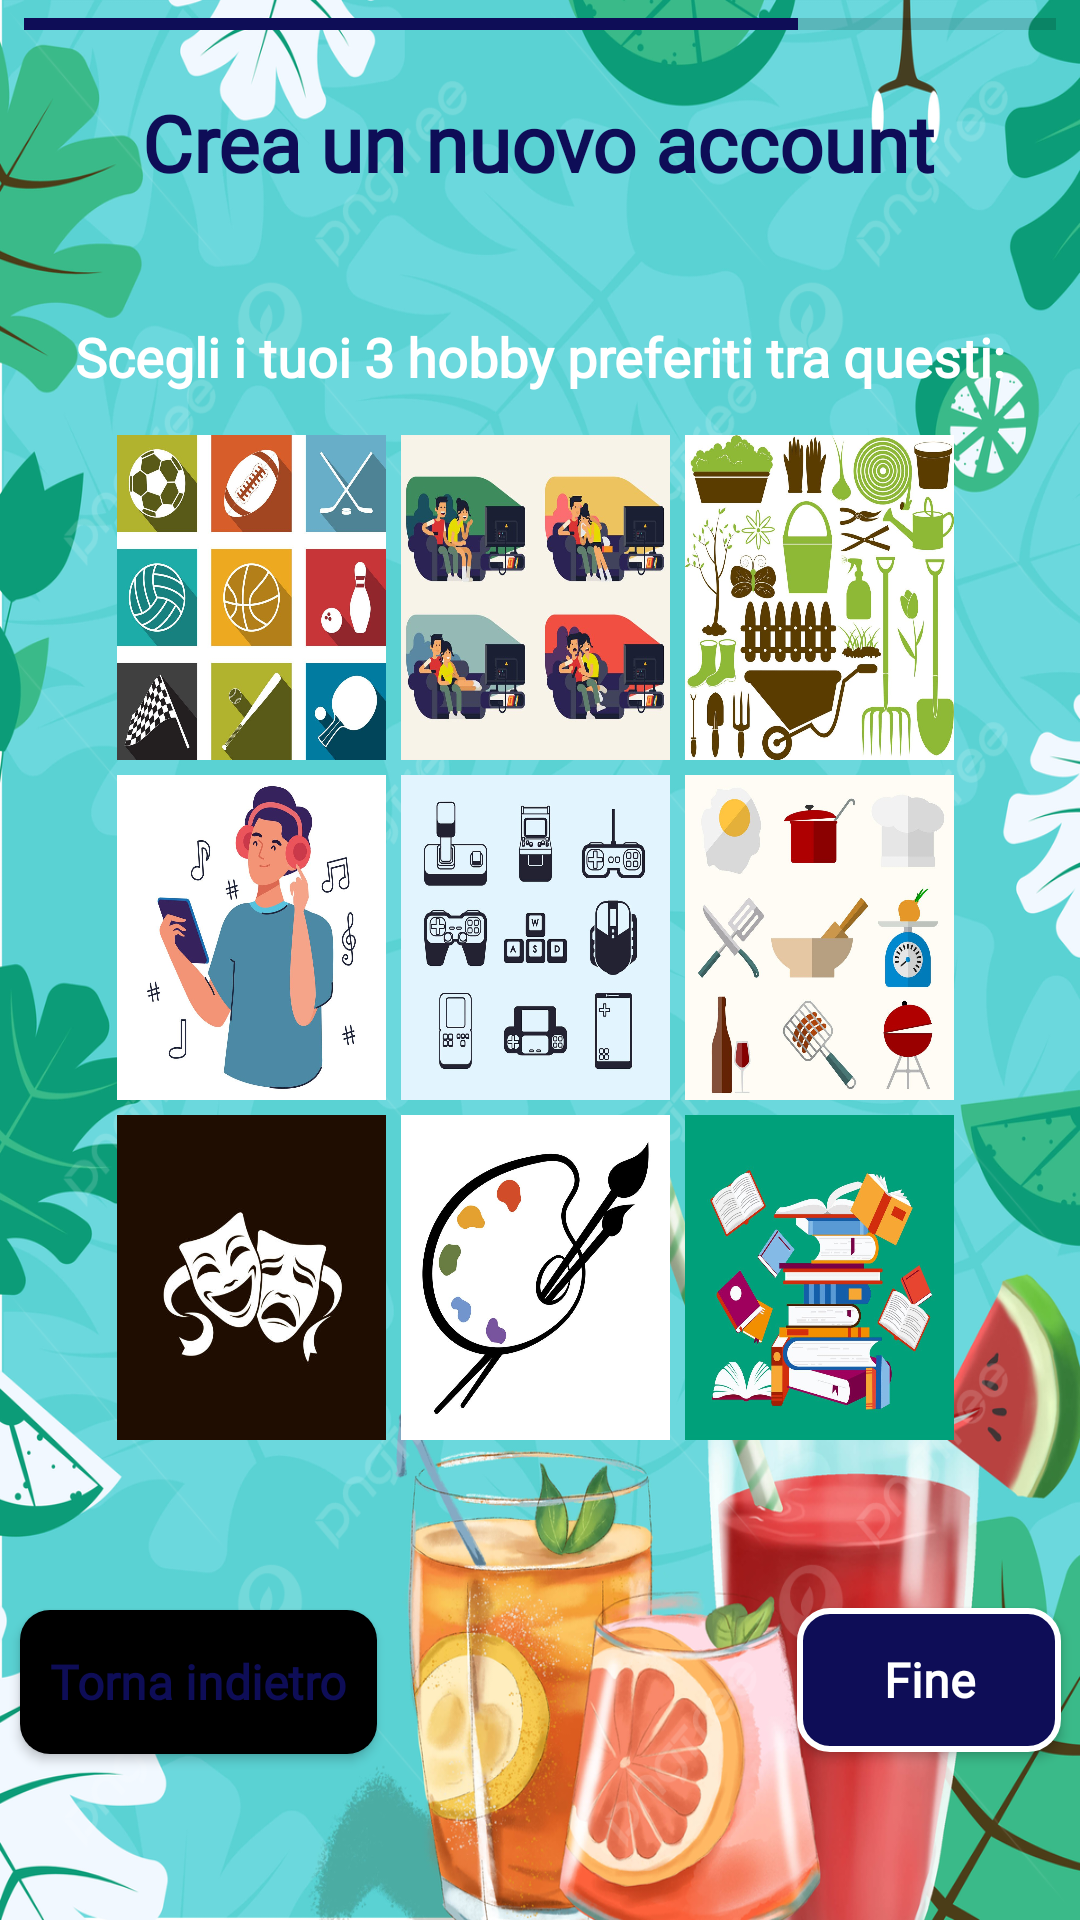

Icons on this 1080px×1920px Android screen, each with the point to tap as (x,y):
hobbyarte: (535,1277)
hobbycucina: (819,937)
hobbygiardinaggio: (819,597)
hobbylettura: (819,1277)
hobbymusica: (251,937)
hobbysport: (251,597)
hobbyteatro: (251,1277)
hobbyvideogiochi: (535,937)
